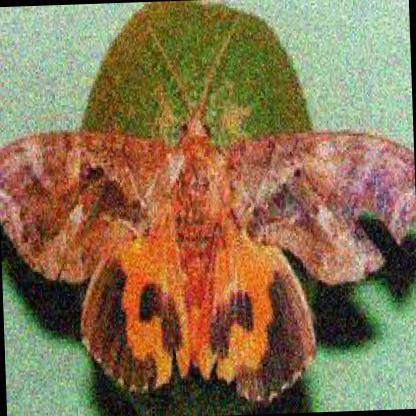fruit sucking moth: (0, 106, 415, 408)
